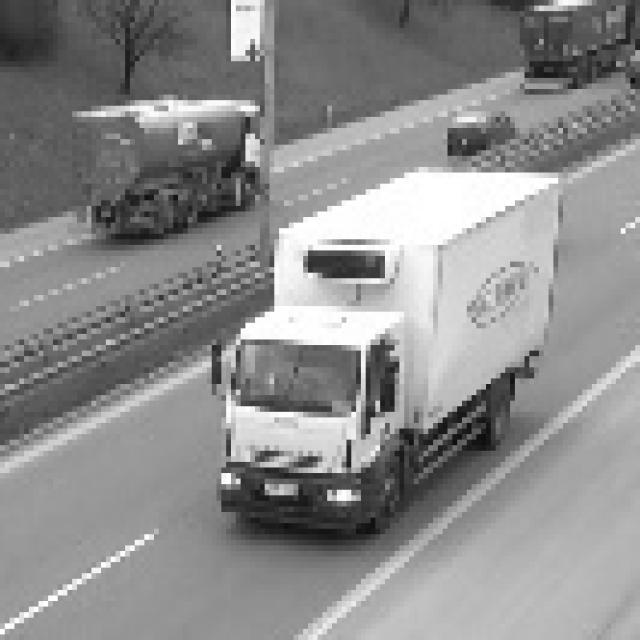truck: (206, 156, 558, 529), (63, 83, 264, 244)
